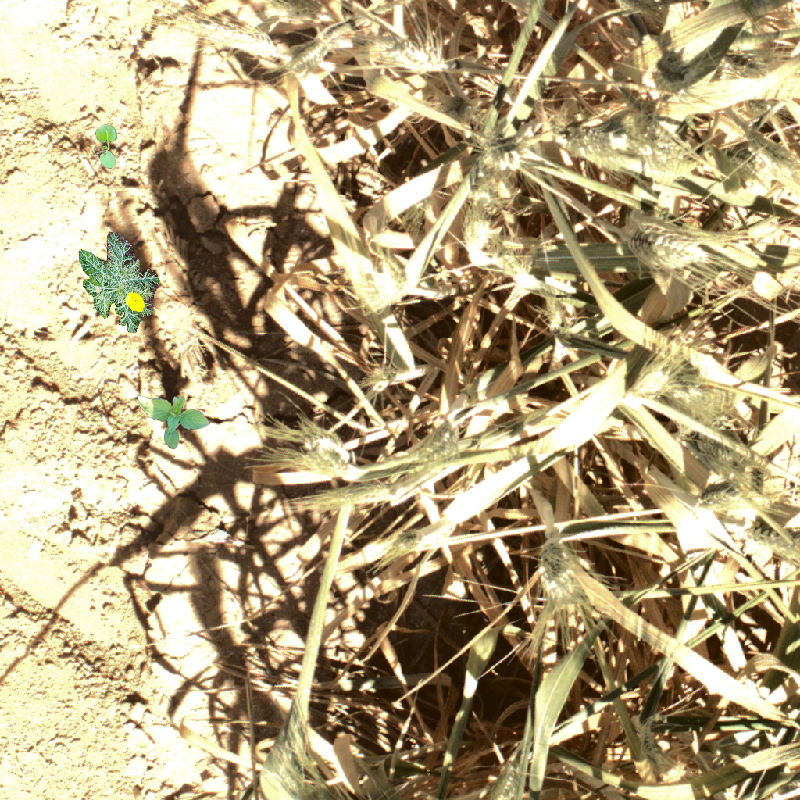spikelet: (659, 59, 799, 123), (440, 455, 535, 525), (333, 243, 411, 312), (620, 220, 710, 276), (735, 141, 799, 214), (195, 18, 290, 67), (459, 215, 527, 275), (533, 534, 588, 607), (285, 425, 353, 474), (633, 717, 678, 776), (385, 36, 448, 76), (569, 131, 626, 173), (301, 485, 417, 505), (633, 358, 684, 399), (741, 523, 800, 558)
weed: (78, 233, 155, 333), (138, 395, 210, 449), (95, 124, 117, 169)
